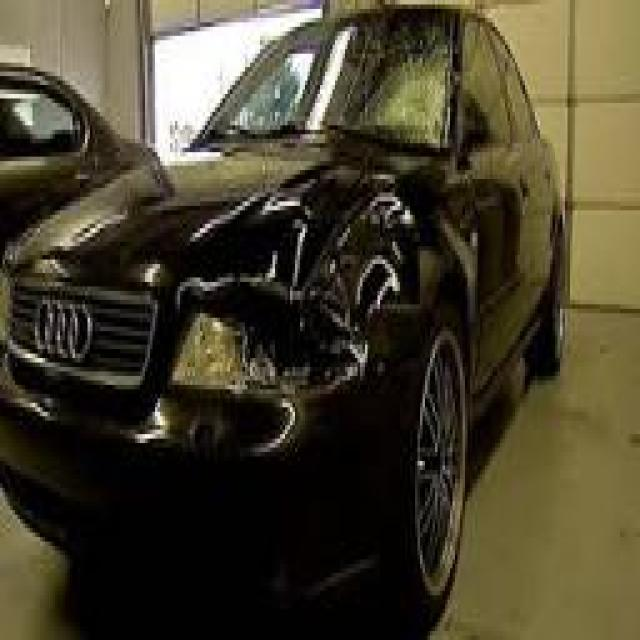Bonnet: (162, 137, 402, 317)
Fender: (297, 180, 476, 386)
Light: (165, 295, 365, 418)
Windshield: (315, 15, 454, 153)
